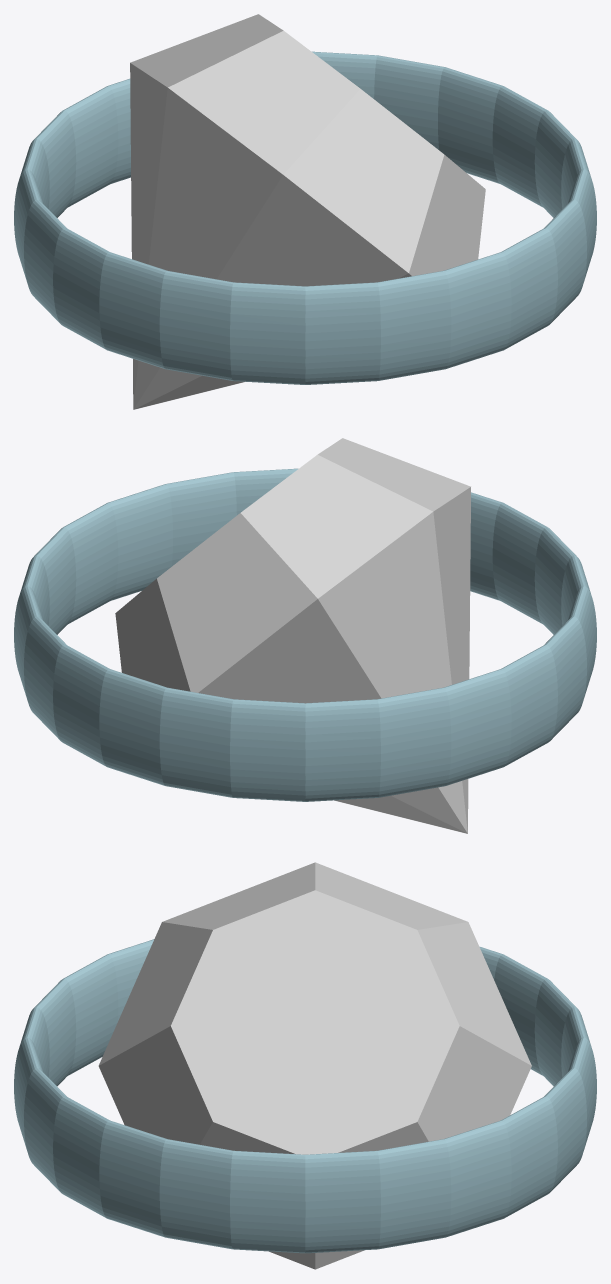
The model's file is diamond.glb.
3 renders of one model, top to bottom at view 1: azimuth 30°, elevation 25°; view 2: azimuth 150°, elevation 25°; view 3: azimuth 270°, elevation 25°, orthographic.
Parts seen in each view (by area): view 1: Mesh_Mesh_head_geo.001_lambert2SG.002; view 2: Mesh_Mesh_head_geo.001_lambert2SG.002; view 3: Mesh_Mesh_head_geo.001_lambert2SG.002.
Part boxes in pixels (<box>): Mesh_Mesh_head_geo.001_lambert2SG.002: <box>14,14,596,409</box>; Mesh_Mesh_head_geo.001_lambert2SG.002: <box>14,438,596,833</box>; Mesh_Mesh_head_geo.001_lambert2SG.002: <box>14,862,596,1269</box>.
Size of the model in its own units: 26.9 by 17.44 by 26.9.
